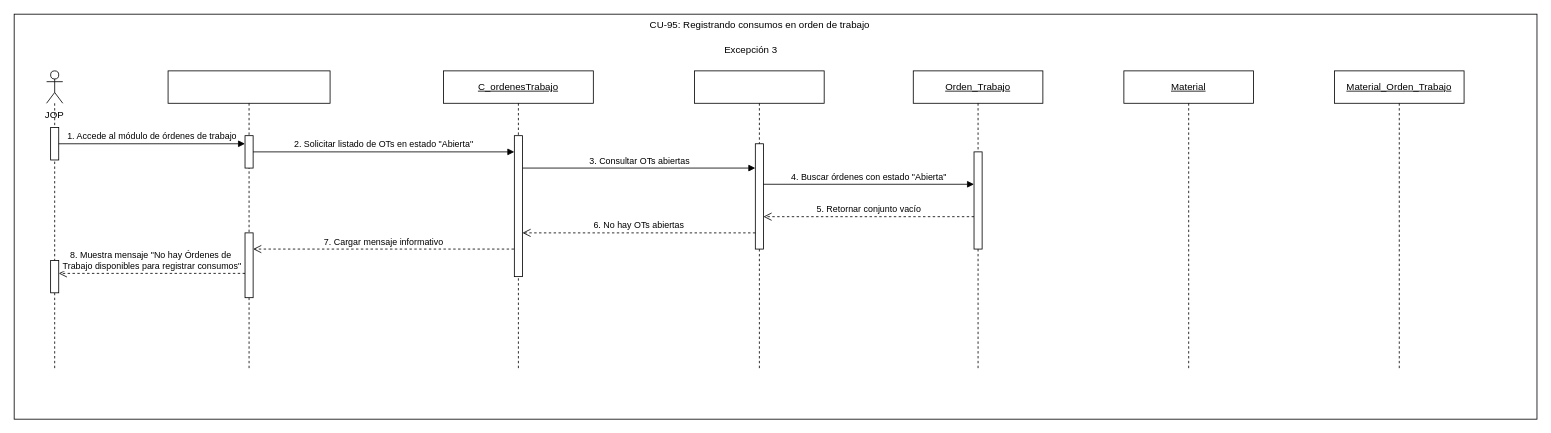
The diagram is 1551 pixels wide and 433 high, and some of its shapes have lost their labels. The shapes that lost their labels are listed below. From the top down, each one's centre as x and y in pixels, then its label:
pixel 248 220: V_Ordenes_de_Trabajo
pixel 759 220: C_ Postgre
